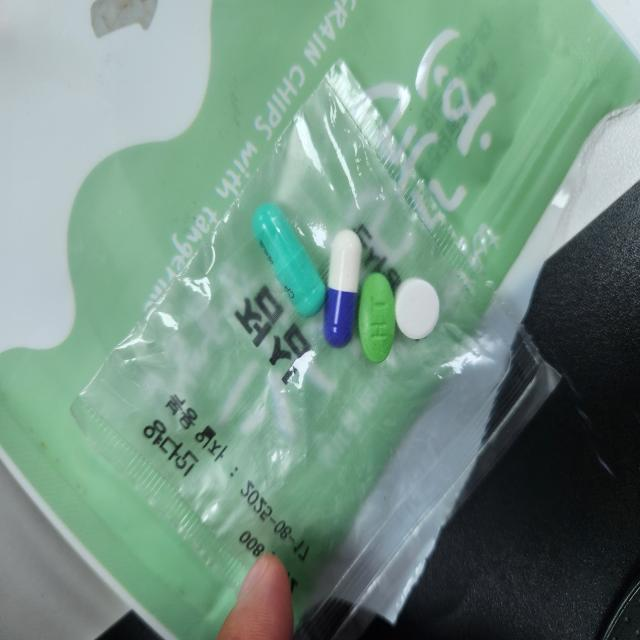러키펜정: (395, 278, 442, 342)
씨엠지세파클러캡슐: (323, 230, 363, 349)
에르도캡슐: (253, 204, 325, 319)
휴티렌정: (356, 273, 395, 365)
